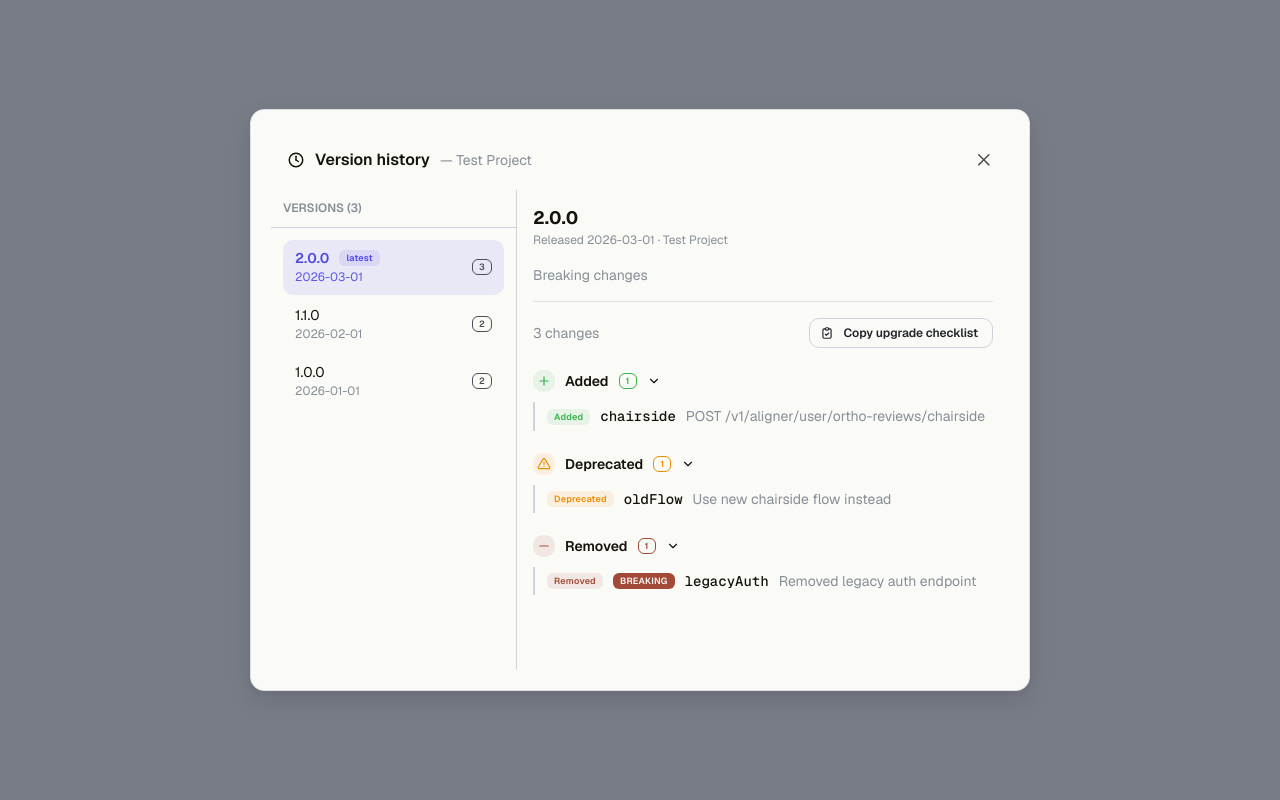
VersionsPage — three version bundle › switches diff panel when a different version is clicked
Click the text "1.1.0" at (307, 315), box [295, 305, 320, 325]
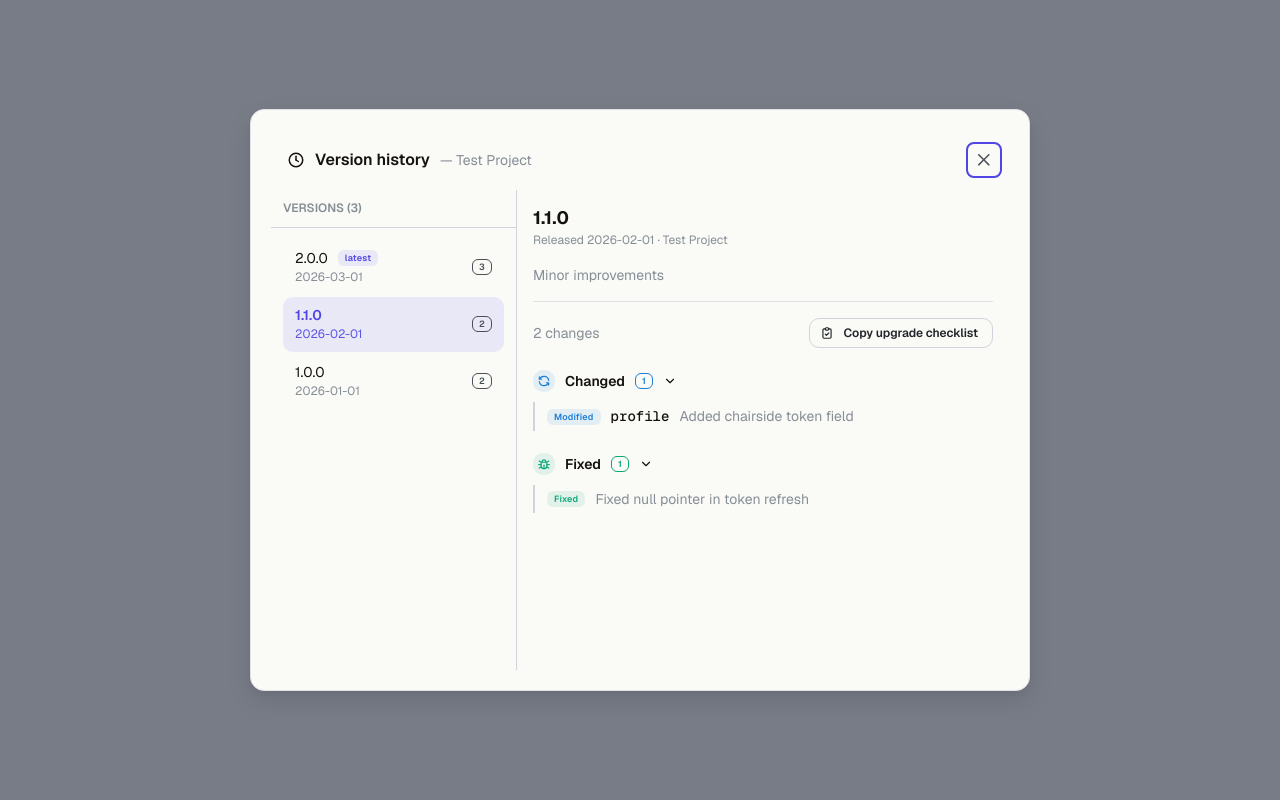
expect the text "profile" is shown: met, box [611, 406, 669, 427]
